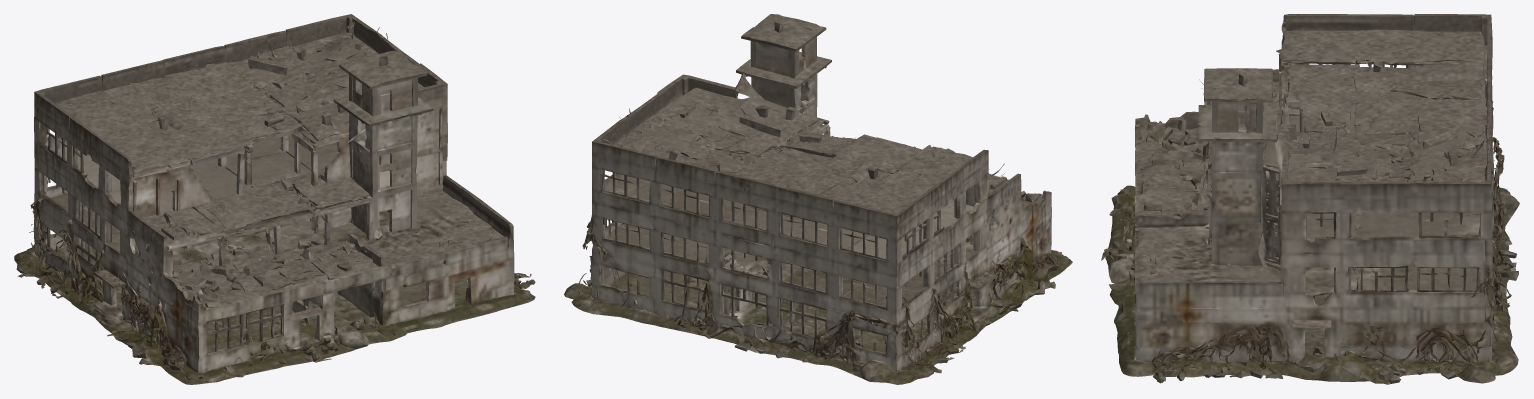
Rendered from ruin_chapel.glb.
The picture shows the model from 3 angles, left to right: view 1: azimuth 30°, elevation 25°; view 2: azimuth 150°, elevation 25°; view 3: azimuth 270°, elevation 25°; orthographic projection. The views are drawn at different scales.
Visible parts, largest first — view 1: ruin_chapel; view 2: ruin_chapel; view 3: ruin_chapel.
Part boxes in pixels (left/top/right/bottom): ruin_chapel: left=14, top=14, right=535, bottom=384; ruin_chapel: left=564, top=14, right=1072, bottom=384; ruin_chapel: left=1101, top=14, right=1519, bottom=384.
Bounding box in the file's own units: 1.89 × 1.08 × 1.63.
Materials: 1 (1 with a texture image).
